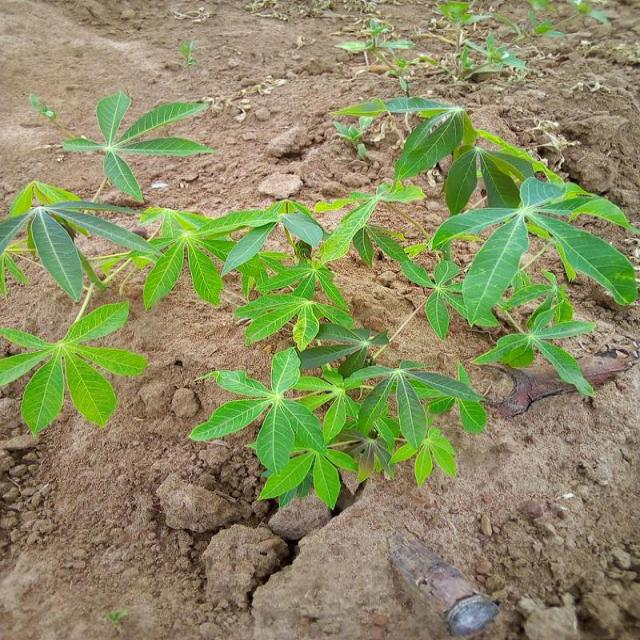cassava leaf: (0, 298, 147, 436)
